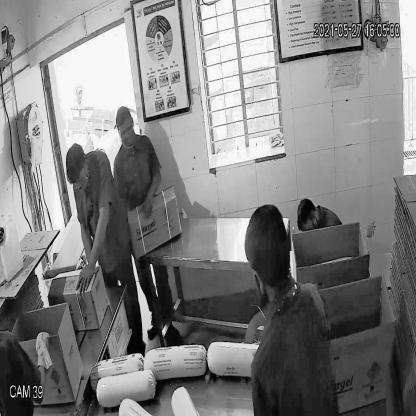no_goggles: (114, 120, 137, 145)
